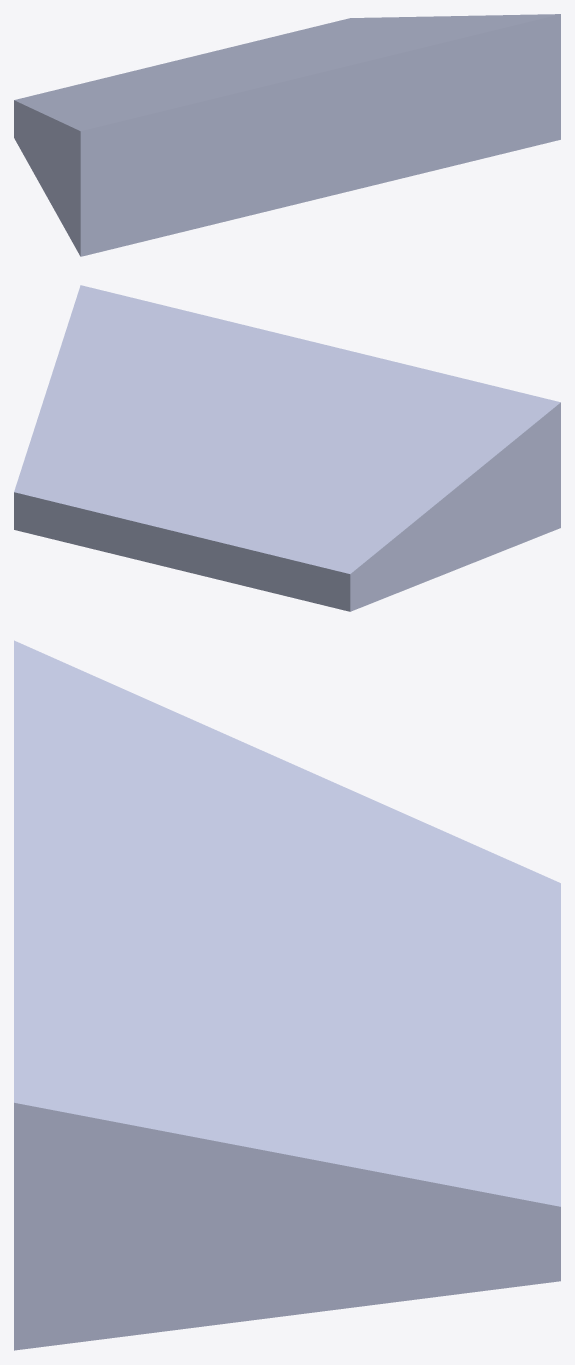
File: Front.dae
The picture shows the model from 3 angles, top to bottom: view 1: azimuth 30°, elevation 25°; view 2: azimuth 150°, elevation 25°; view 3: azimuth 270°, elevation 25°; orthographic projection. The views are drawn at different scales.
Parts seen in each view (by area): view 1: ID2; view 2: ID2; view 3: ID2.
Boxes of the visible parts, <box> form: ID2: <box>14,14,560,256</box>; ID2: <box>14,285,560,611</box>; ID2: <box>14,640,560,1350</box>.
Size of the model in its own units: 0.2 by 0.1 by 0.05.
